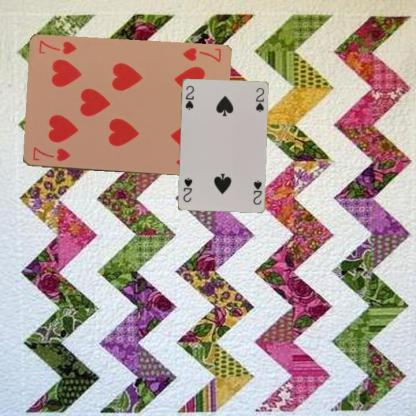2s: (251, 177, 263, 206), (182, 83, 194, 111)
7h: (30, 144, 71, 163), (180, 46, 222, 64)
